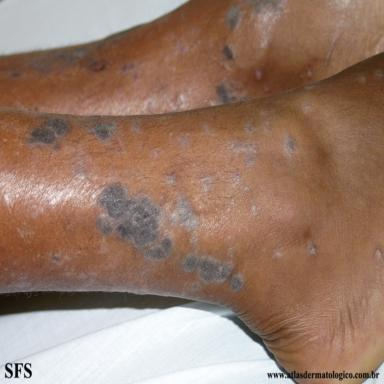lichen: (97, 183, 173, 260), (181, 247, 246, 293), (249, 0, 289, 49), (29, 117, 70, 152), (168, 192, 199, 232), (51, 47, 90, 69), (215, 79, 246, 104), (231, 141, 257, 167), (86, 121, 117, 141), (221, 172, 248, 193), (48, 251, 70, 273), (73, 143, 86, 178), (226, 6, 241, 29), (85, 58, 109, 71), (201, 175, 214, 195), (284, 135, 295, 154), (162, 173, 177, 186), (130, 119, 142, 134), (223, 45, 235, 60), (245, 120, 257, 134), (179, 132, 190, 146), (307, 241, 317, 256), (6, 69, 22, 78), (374, 247, 383, 262), (190, 281, 201, 293), (122, 63, 135, 73), (189, 234, 198, 247), (88, 115, 114, 119), (255, 69, 263, 80), (77, 120, 88, 125), (133, 74, 139, 81)
